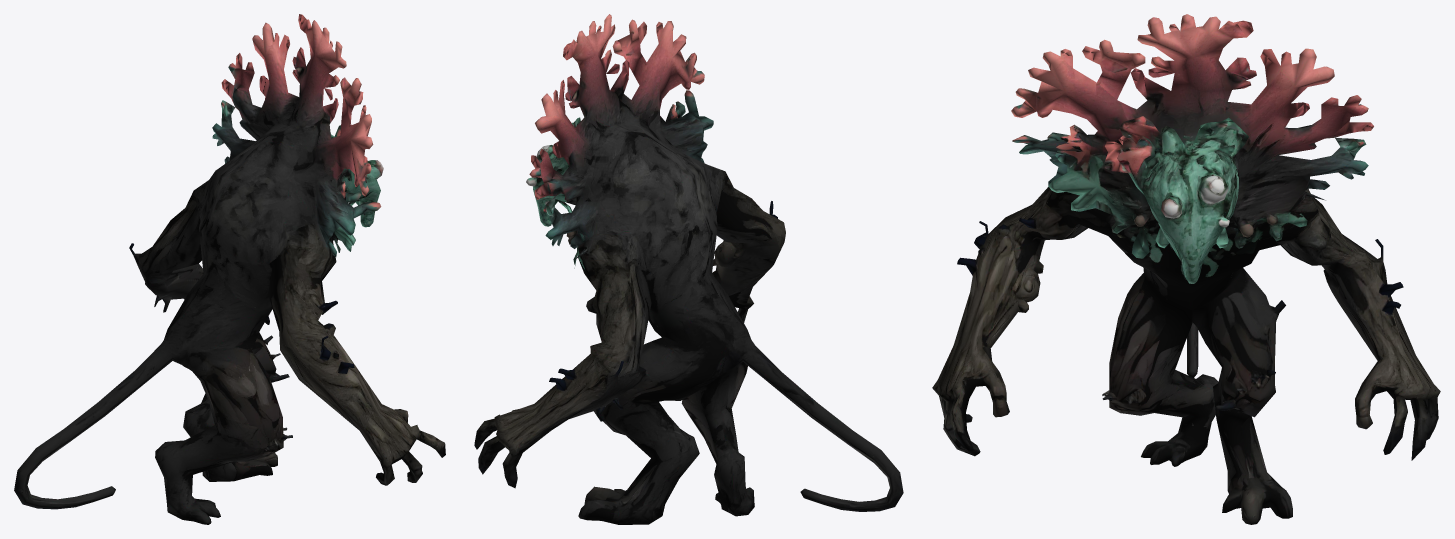
3 views of the same model, side by side, from view 1: azimuth 30°, elevation 25°; view 2: azimuth 150°, elevation 25°; view 3: azimuth 270°, elevation 25° (orthographic). The views are drawn at different scales.
Visible parts, largest first — view 1: tripo_node_c6892b82-d8c3-4dd1-bbc7-c12c279abacb; view 2: tripo_node_c6892b82-d8c3-4dd1-bbc7-c12c279abacb; view 3: tripo_node_c6892b82-d8c3-4dd1-bbc7-c12c279abacb.
Part boxes in pixels (<box>): tripo_node_c6892b82-d8c3-4dd1-bbc7-c12c279abacb: <box>14,14,445,524</box>; tripo_node_c6892b82-d8c3-4dd1-bbc7-c12c279abacb: <box>474,14,903,524</box>; tripo_node_c6892b82-d8c3-4dd1-bbc7-c12c279abacb: <box>932,14,1440,524</box>.
Bounding box in the file's own units: 0.8418 × 0.998 × 0.8809.
1 material, 1 textured.
